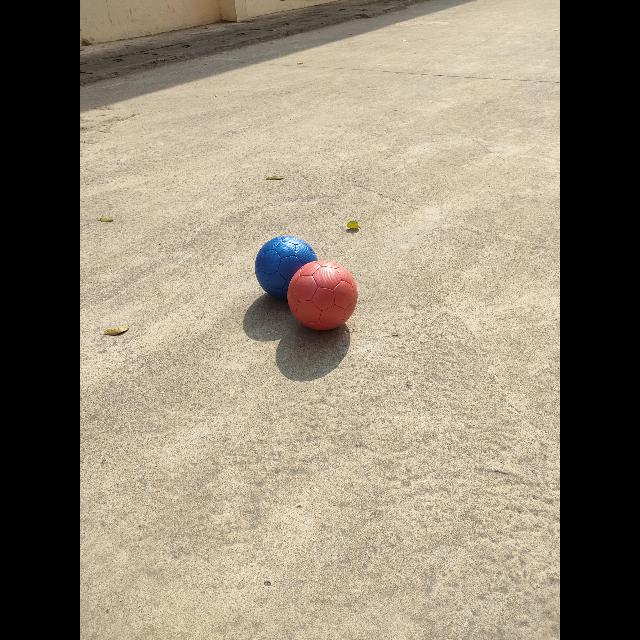B: (254, 236, 318, 300)
R: (287, 260, 358, 331)
